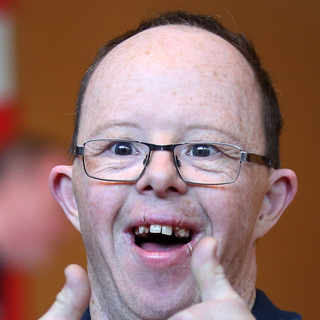eye: (178, 135, 227, 165), (98, 134, 144, 165)
